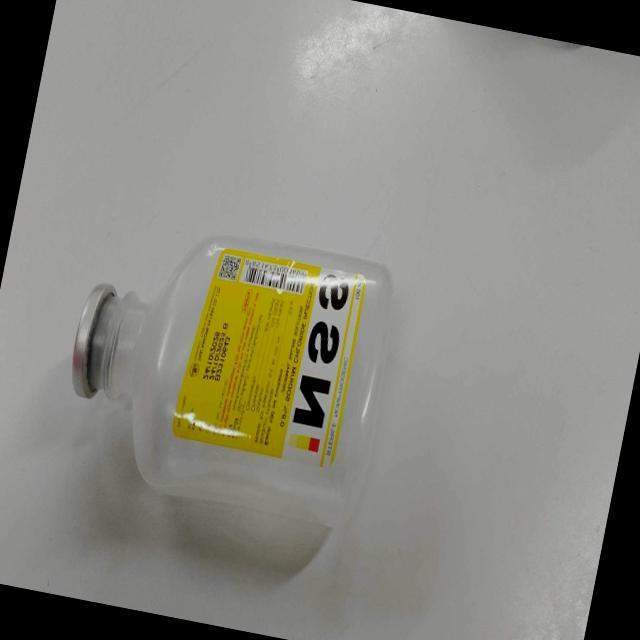General: (170, 246, 369, 470)
Sharps: (71, 234, 394, 541)
